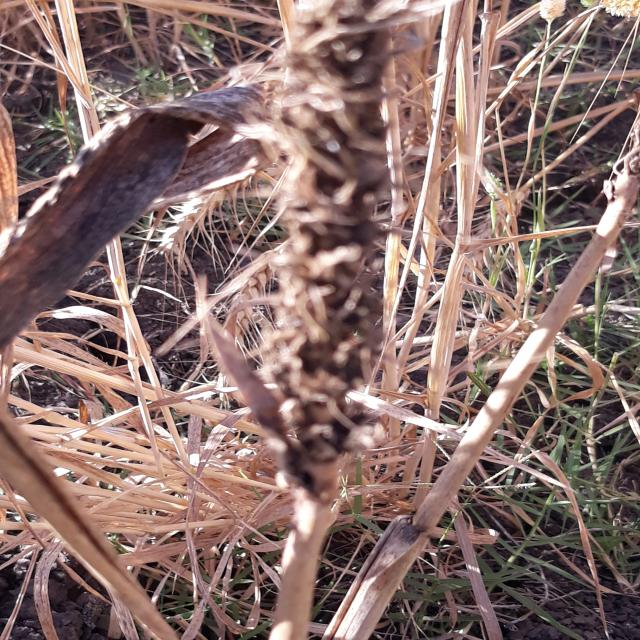loose_charred: (247, 0, 442, 578), (0, 82, 271, 368), (0, 415, 165, 640), (294, 521, 465, 640)
